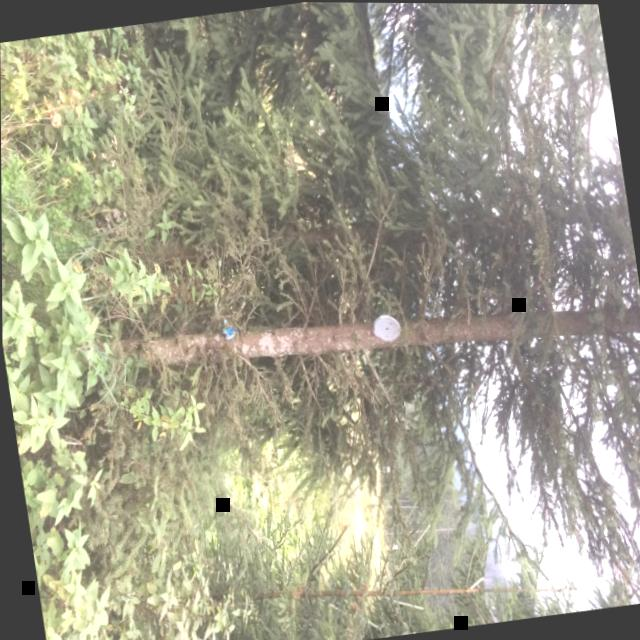Plastic lid: (373, 313, 400, 340)
Unlabeled litter: (222, 317, 236, 339)
